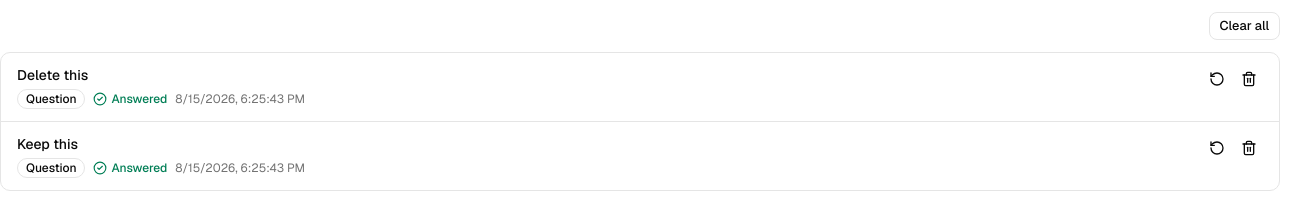
Test: HistoryList component › delete entry (remove by id) › clicking delete button removes the entry
Expected: the text "Delete this" is shown, x1=17 y1=66 x2=88 y2=84
What coordinates should you click on to do the following:
click the button named "Delete \"Delete this\" from history"
I would click on:
 (1249, 79)
Its box is x1=1235 y1=65 x2=1263 y2=93.
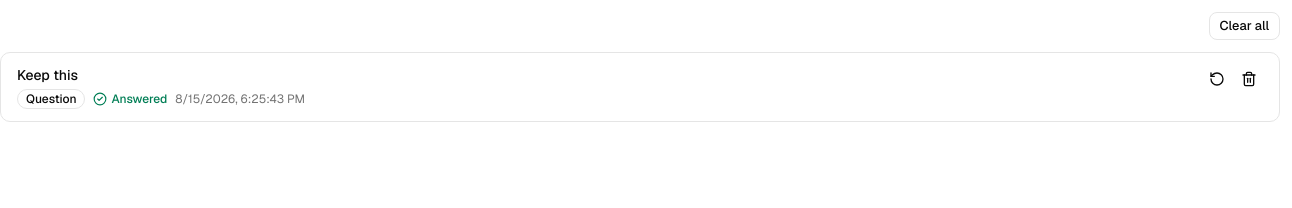
Expected: the text "Keep this" is shown, x1=17 y1=66 x2=78 y2=84
Now the text "Delete this" is gone
